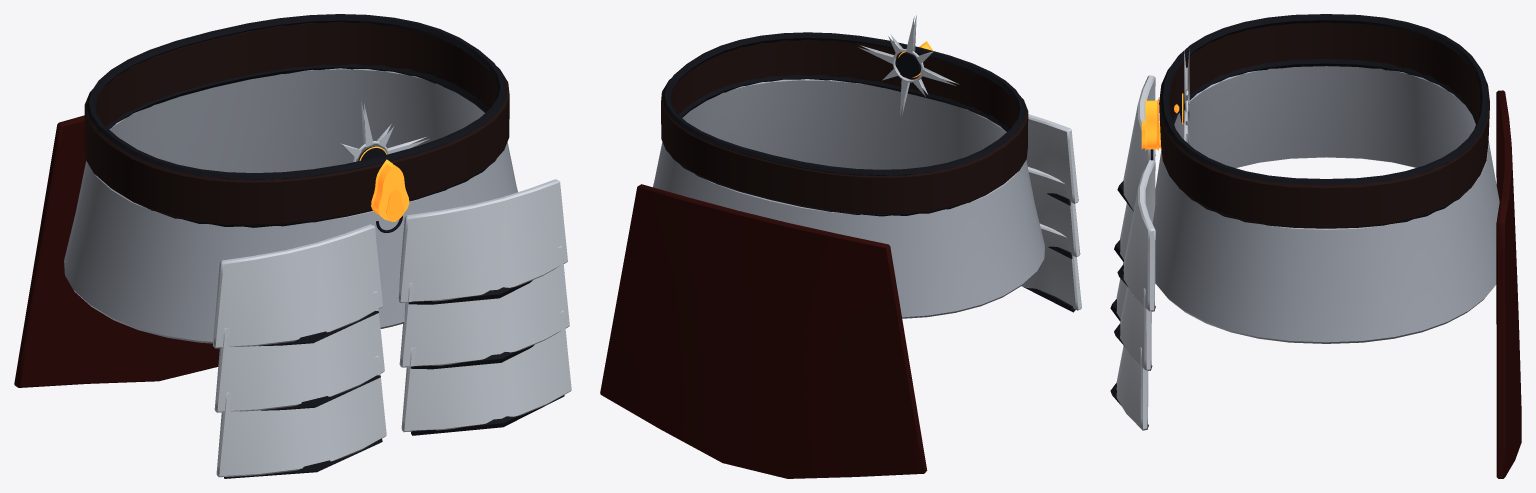
File: esc_ruinmarch_herald_inner.glb
3 renders of one model, left to right at view 1: azimuth 30°, elevation 25°; view 2: azimuth 150°, elevation 25°; view 3: azimuth 270°, elevation 25°, orthographic. The views are drawn at different scales.
Parts seen in each view (by area): view 1: esc_ruinmarch_herald_inner, AT_thigh_L, AT_thigh_R; view 2: esc_ruinmarch_herald_inner, AT_thigh_R; view 3: esc_ruinmarch_herald_inner, AT_thigh_L, AT_thigh_R.
Boxes of the visible parts, box(x1,y1,x2,y2) form: esc_ruinmarch_herald_inner: box(14, 14, 517, 387); AT_thigh_L: box(398, 179, 571, 435); AT_thigh_R: box(213, 224, 386, 478); esc_ruinmarch_herald_inner: box(600, 15, 1044, 478); AT_thigh_R: box(1021, 114, 1081, 312); esc_ruinmarch_herald_inner: box(1141, 14, 1521, 478); AT_thigh_L: box(1110, 160, 1155, 430); AT_thigh_R: box(1110, 75, 1155, 321).
Bounding box in the file's own units: 0.5145 × 0.4756 × 0.4717.
